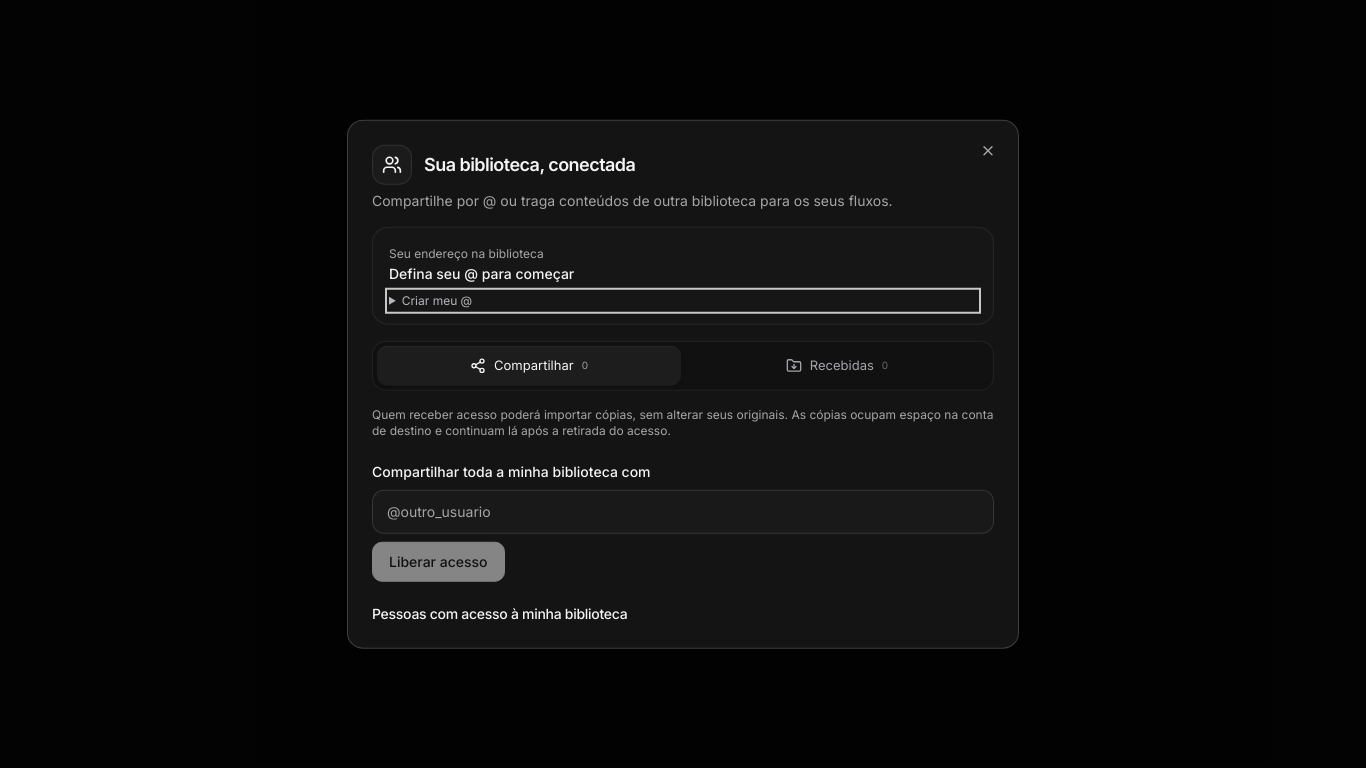
library sharing dialog › imports shared media and refreshes the user's library
Click the tab "Recebidas 0" at (837, 366), box 685,346 -> 989,385
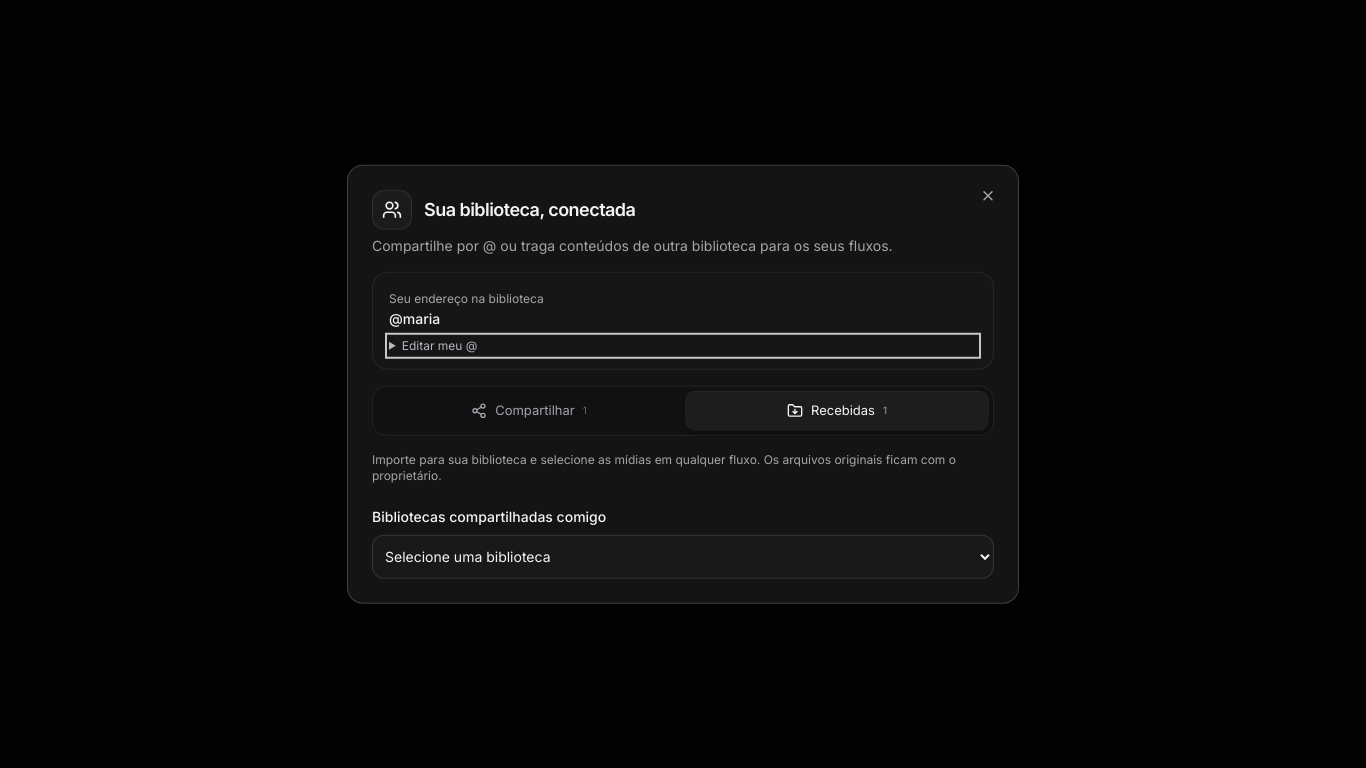
Select "@ana" in the dropdown labelled "Bibliotecas compartilhadas comigo" at (683, 556), box 372,534 -> 994,578
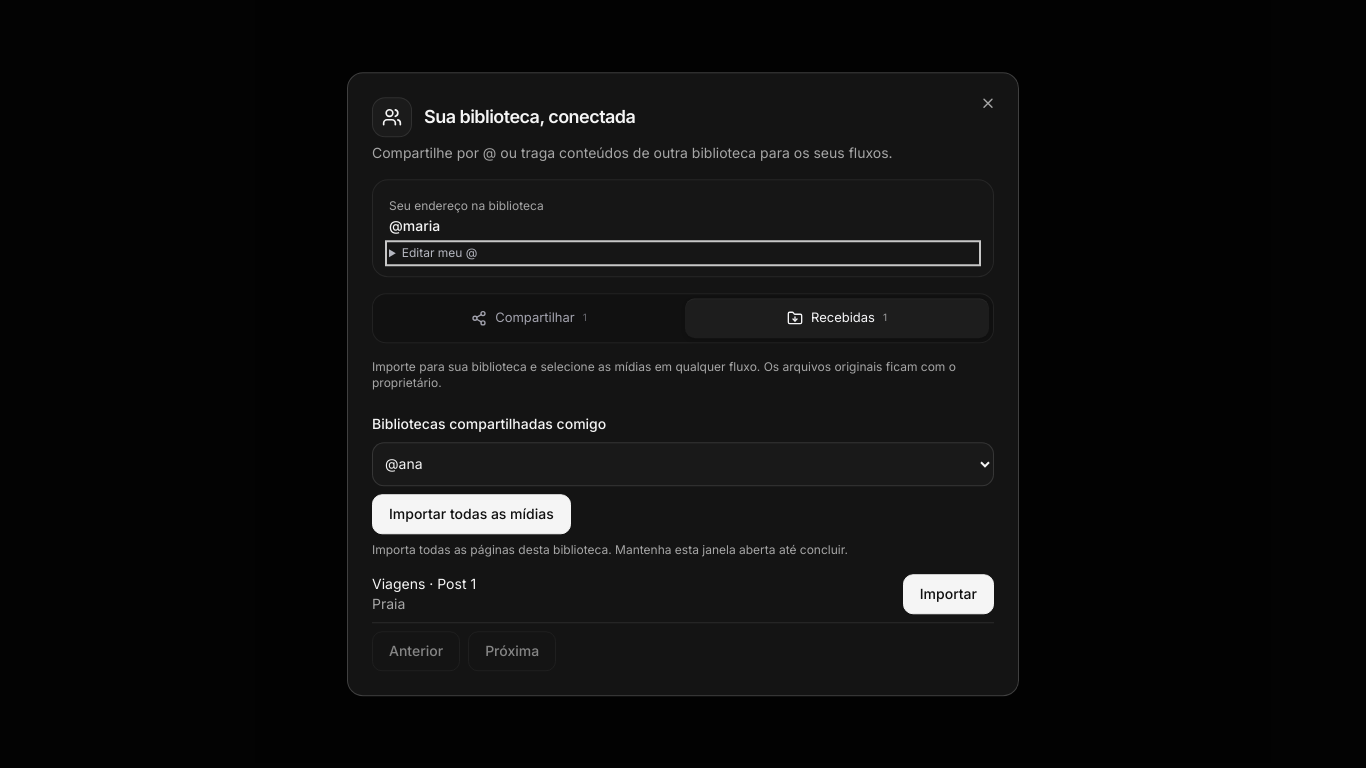
Click the button "Importar" at (948, 594), box 903,574 -> 994,614
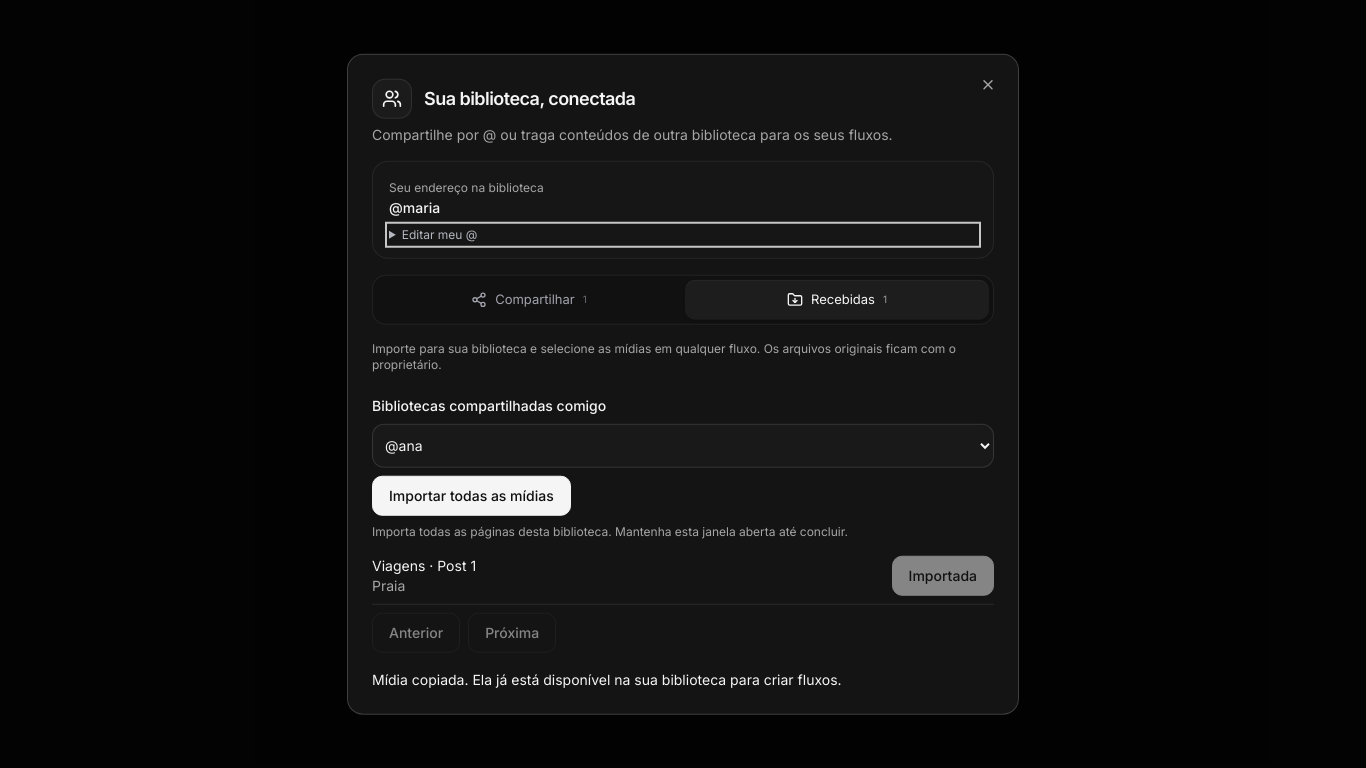
Expected: the button "Importada" is disabled, 892,555 -> 994,595
